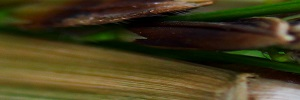RiceSheathBrownRot: (3, 1, 300, 99)
